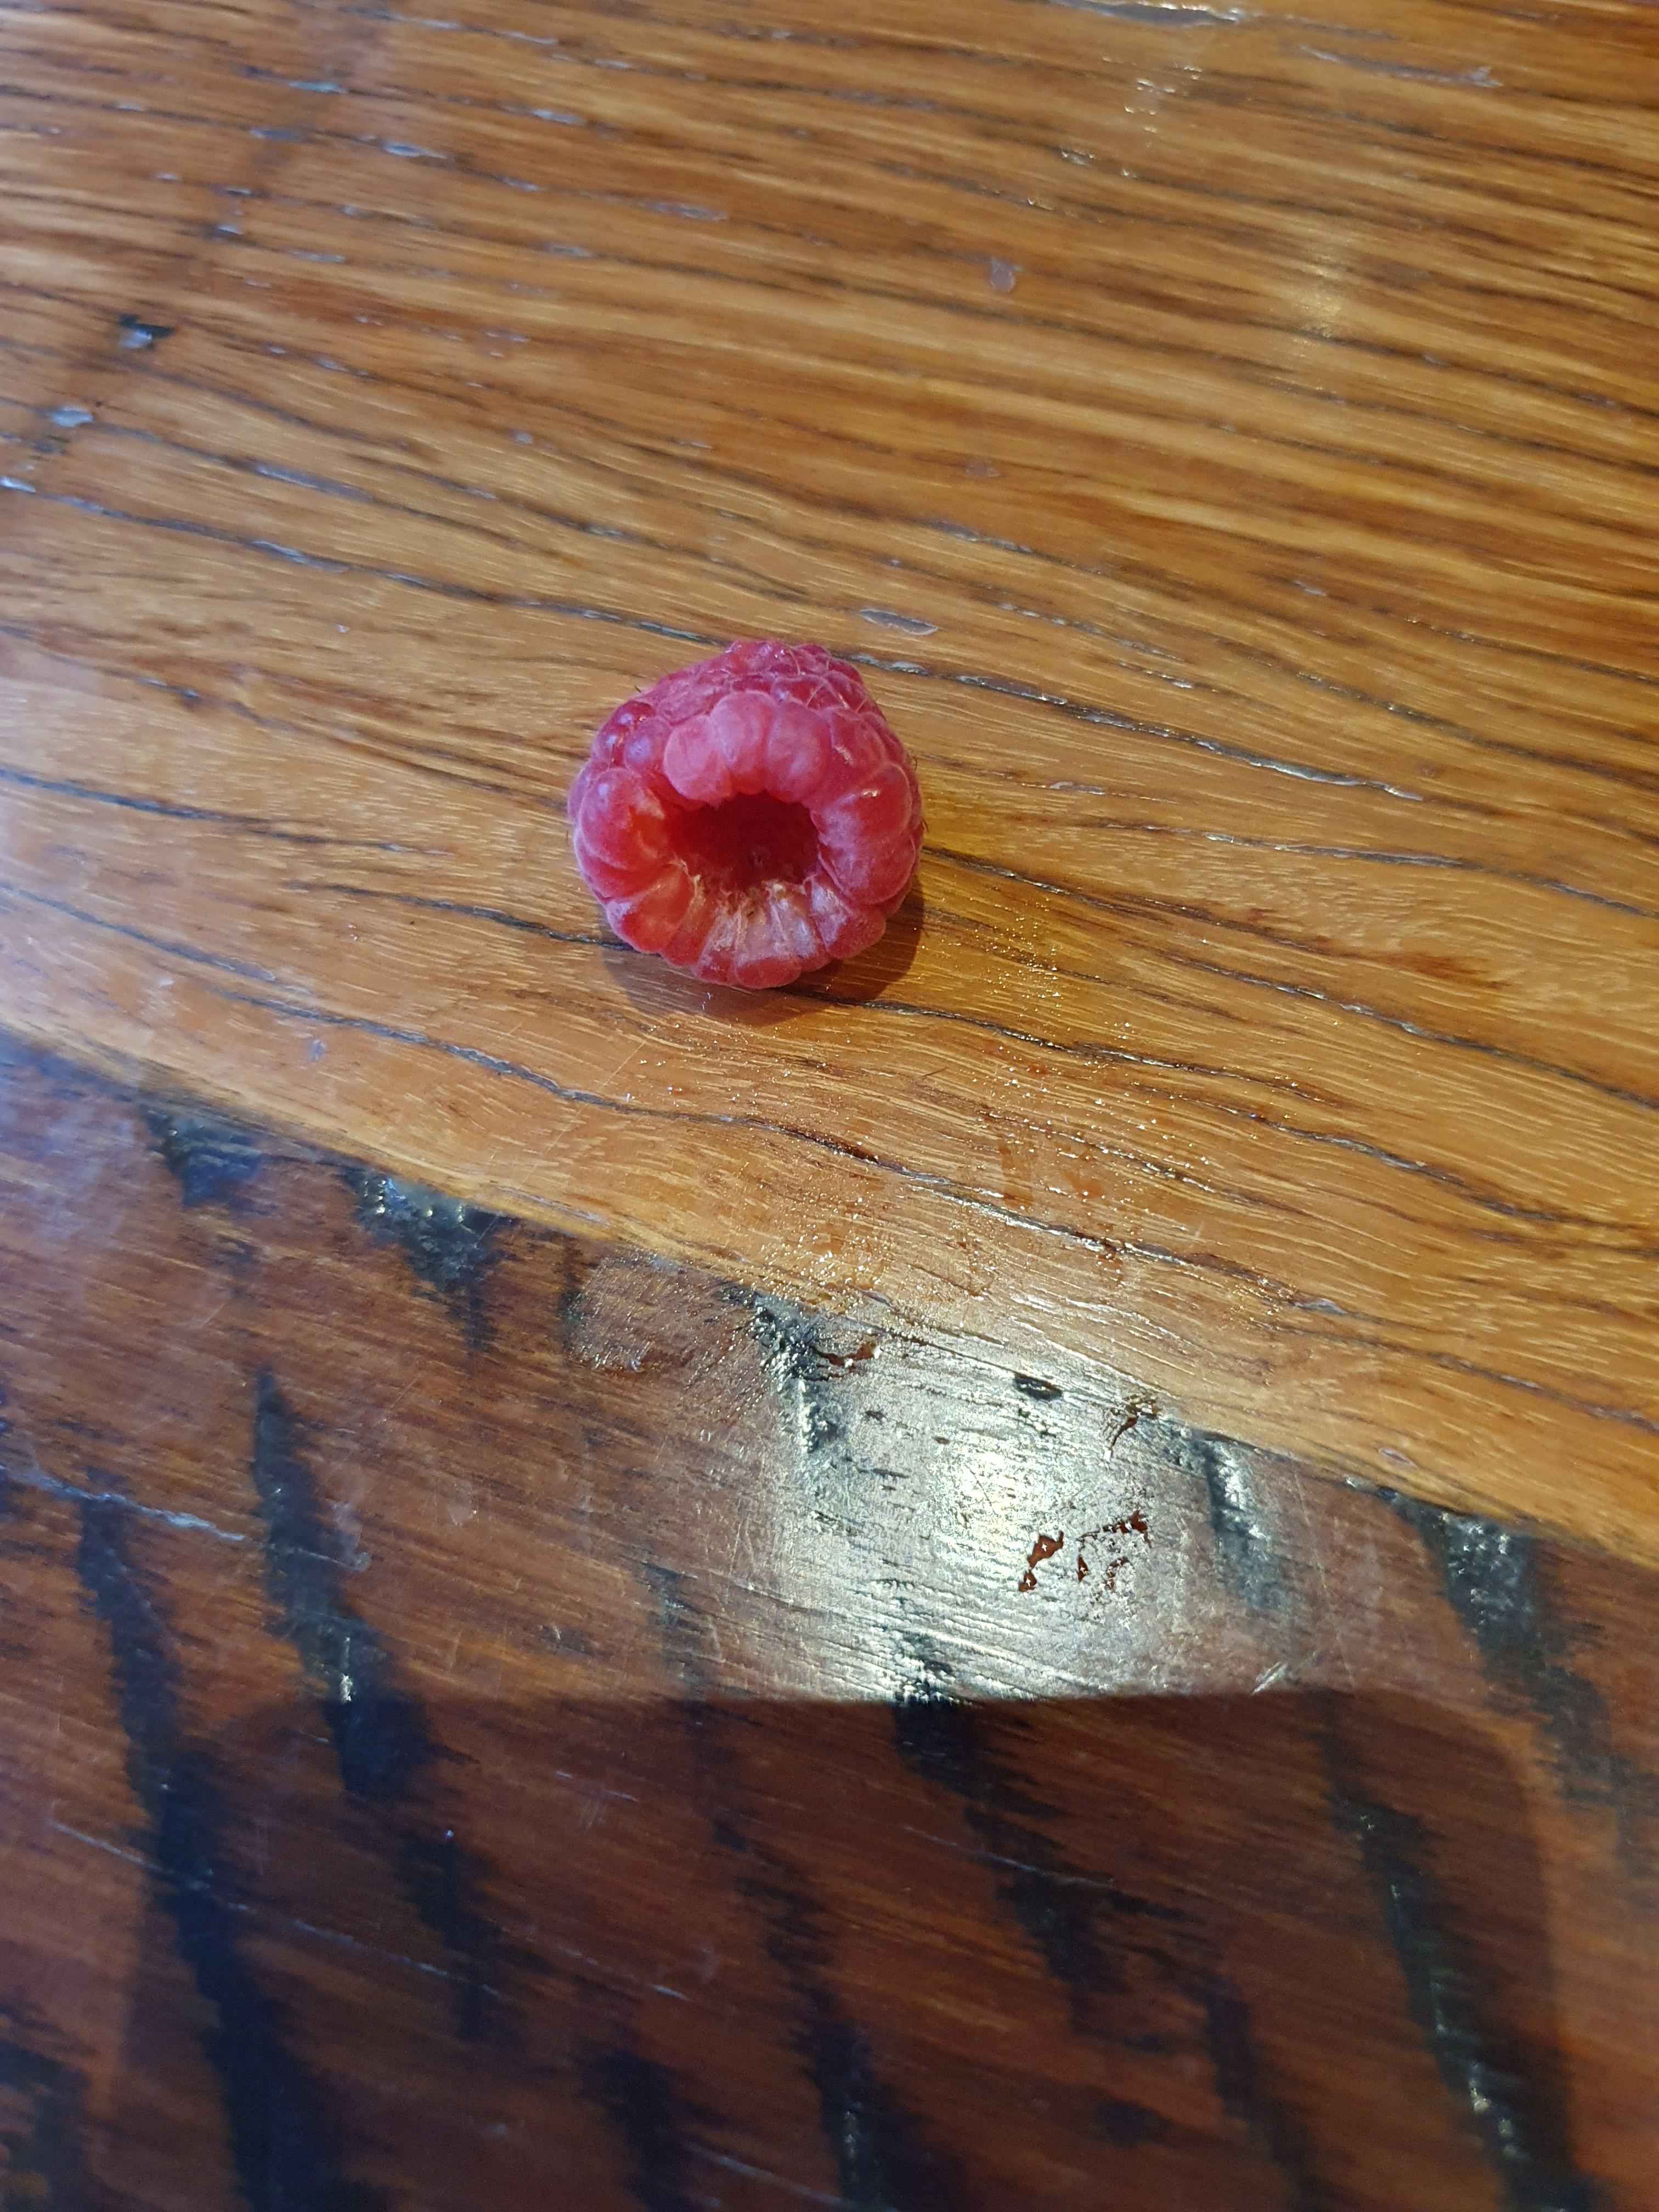raspberry: (521, 590, 988, 1024)
